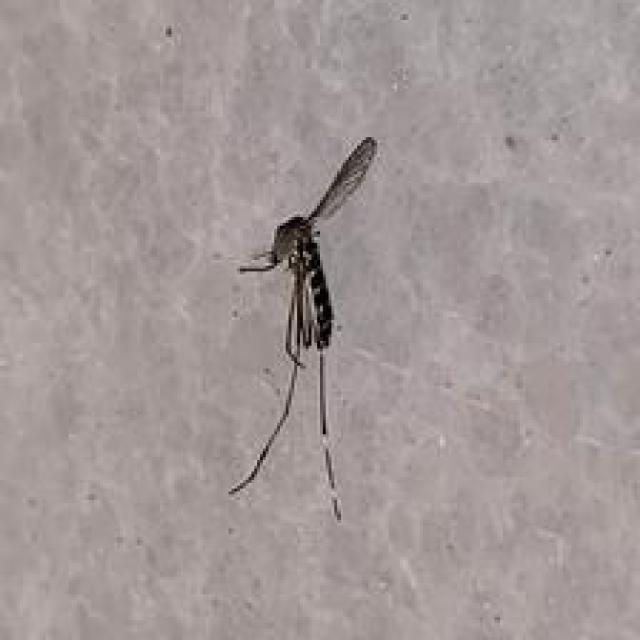Aedes albopictus: (226, 134, 380, 523)
